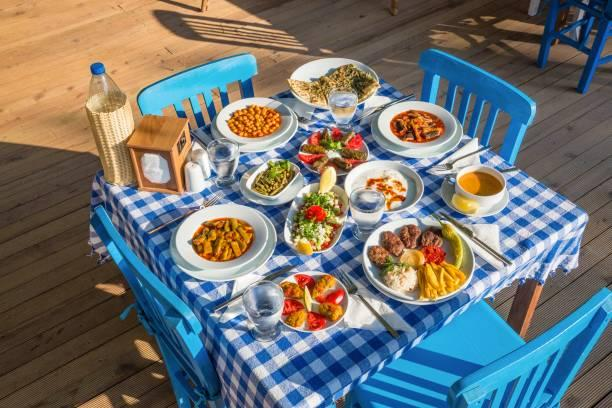Braised Crucian Carp: (362, 217, 473, 303), (171, 203, 274, 278), (287, 57, 380, 111), (373, 100, 462, 155), (283, 182, 349, 255), (344, 159, 422, 215), (276, 271, 347, 331), (214, 97, 295, 148), (297, 128, 369, 175), (240, 161, 304, 205)
